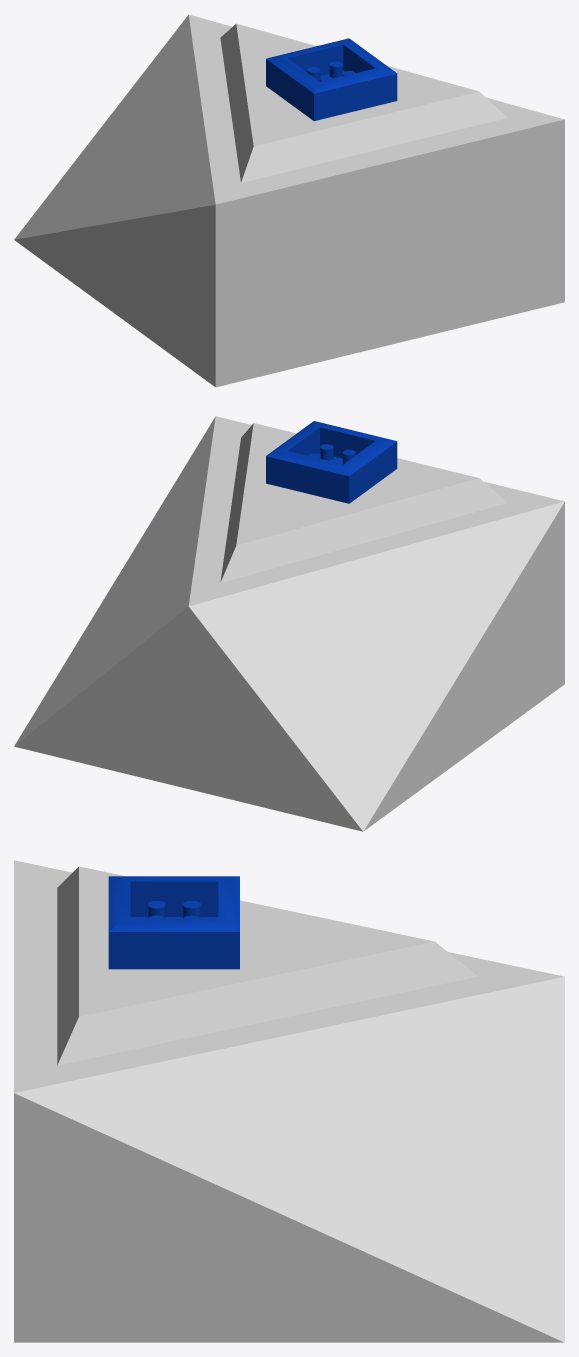
Rendered from VehiclePhysicsSensor.gltf.
3 renders of one model, top to bottom at view 1: azimuth 30°, elevation 25°; view 2: azimuth 150°, elevation 25°; view 3: azimuth 270°, elevation 25°, orthographic. The views are drawn at different scales.
Parts seen in each view (by area): view 1: base; view 2: base; view 3: base.
Part boxes in pixels (left/top/right/bottom): base: left=14, top=14, right=564, bottom=387; base: left=14, top=416, right=564, bottom=831; base: left=14, top=860, right=564, bottom=1342.
Size of the model in its own units: 0.25 by 0.1632 by 0.25.
